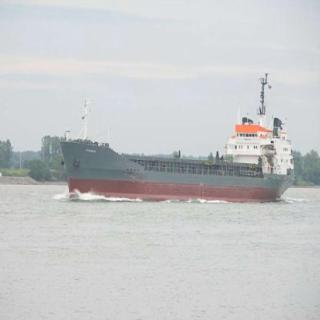Bulk Carrier: (56, 92, 308, 204)
